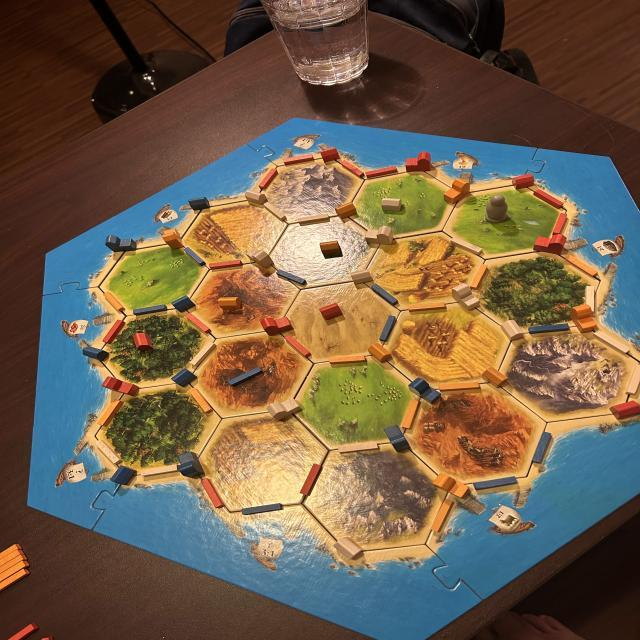blue-city: (175, 452, 205, 479), (410, 378, 442, 403), (382, 424, 410, 452), (104, 235, 138, 253)
blue-road: (528, 432, 554, 465), (470, 474, 520, 491), (244, 500, 285, 518), (230, 367, 262, 389), (369, 284, 400, 305), (378, 313, 399, 342), (275, 270, 308, 286), (529, 322, 572, 334), (180, 247, 204, 266), (132, 302, 163, 314)
blue-settlement: (110, 465, 136, 487), (170, 370, 198, 388), (173, 294, 197, 314), (82, 346, 110, 362), (186, 197, 211, 210)
orange-city: (430, 472, 470, 498), (568, 305, 600, 333), (442, 177, 472, 203), (162, 228, 184, 249)
orange-road: (188, 386, 216, 414), (566, 255, 600, 278), (436, 498, 454, 536), (403, 399, 423, 428), (438, 379, 481, 392), (104, 288, 125, 314), (471, 262, 488, 292), (330, 354, 364, 366)
orange-settlement: (480, 367, 510, 387), (368, 342, 393, 362), (334, 202, 358, 221), (318, 240, 343, 258), (218, 295, 240, 310)
red-city: (260, 315, 294, 336), (533, 236, 568, 256), (102, 378, 140, 396), (407, 150, 432, 175)
red-road: (201, 477, 226, 511), (300, 464, 326, 496), (102, 320, 128, 346), (530, 192, 568, 207), (185, 314, 212, 335), (282, 338, 310, 356), (338, 160, 366, 177), (364, 165, 400, 178), (260, 166, 279, 186), (284, 154, 316, 164), (208, 260, 244, 268), (556, 212, 566, 232)
red-settlement: (510, 172, 536, 192), (606, 402, 640, 417), (318, 302, 342, 322), (130, 333, 154, 352), (318, 147, 344, 162)
white-city: (451, 285, 484, 311), (269, 398, 302, 421), (362, 226, 396, 244), (247, 250, 274, 270)
white-road: (593, 329, 633, 356), (92, 438, 123, 464), (448, 239, 488, 257), (188, 342, 218, 366), (336, 438, 378, 454), (142, 462, 177, 479), (583, 286, 602, 314), (623, 364, 640, 393), (300, 212, 330, 227), (263, 202, 286, 220)
white-settlement: (330, 534, 363, 562), (500, 320, 526, 340), (240, 192, 270, 204), (378, 199, 403, 212), (349, 270, 372, 284)
